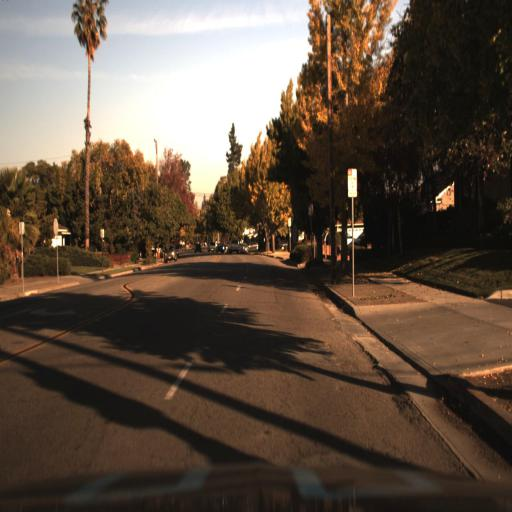car: (162, 241, 178, 266), (163, 241, 178, 264), (227, 236, 243, 256)
